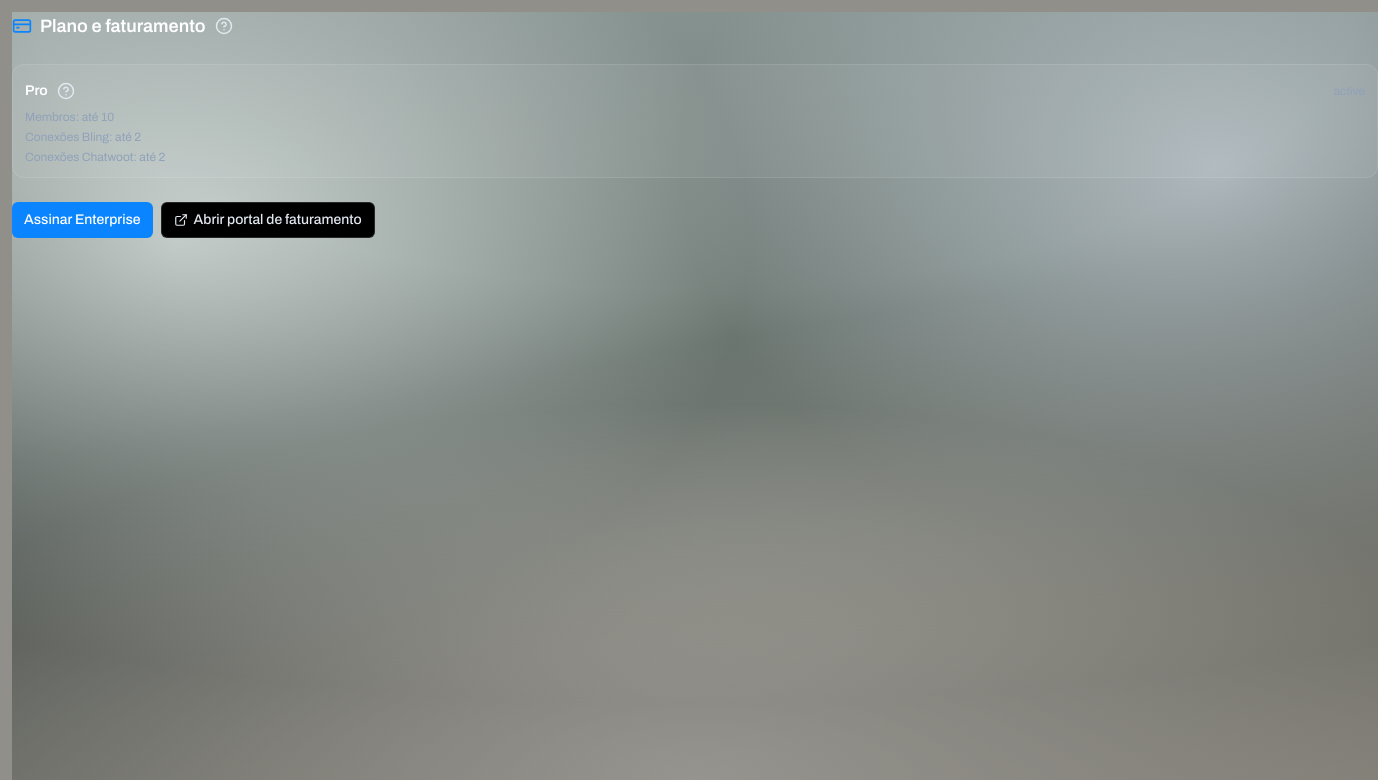
Test: BillingPanel › surfaces a billing failure from the server instead of pretending checkout started
Expected: the text "Pro" is shown, [25,81,48,101]
Click the button "Assinar Enterprise": (82, 220) [12,202,153,238]
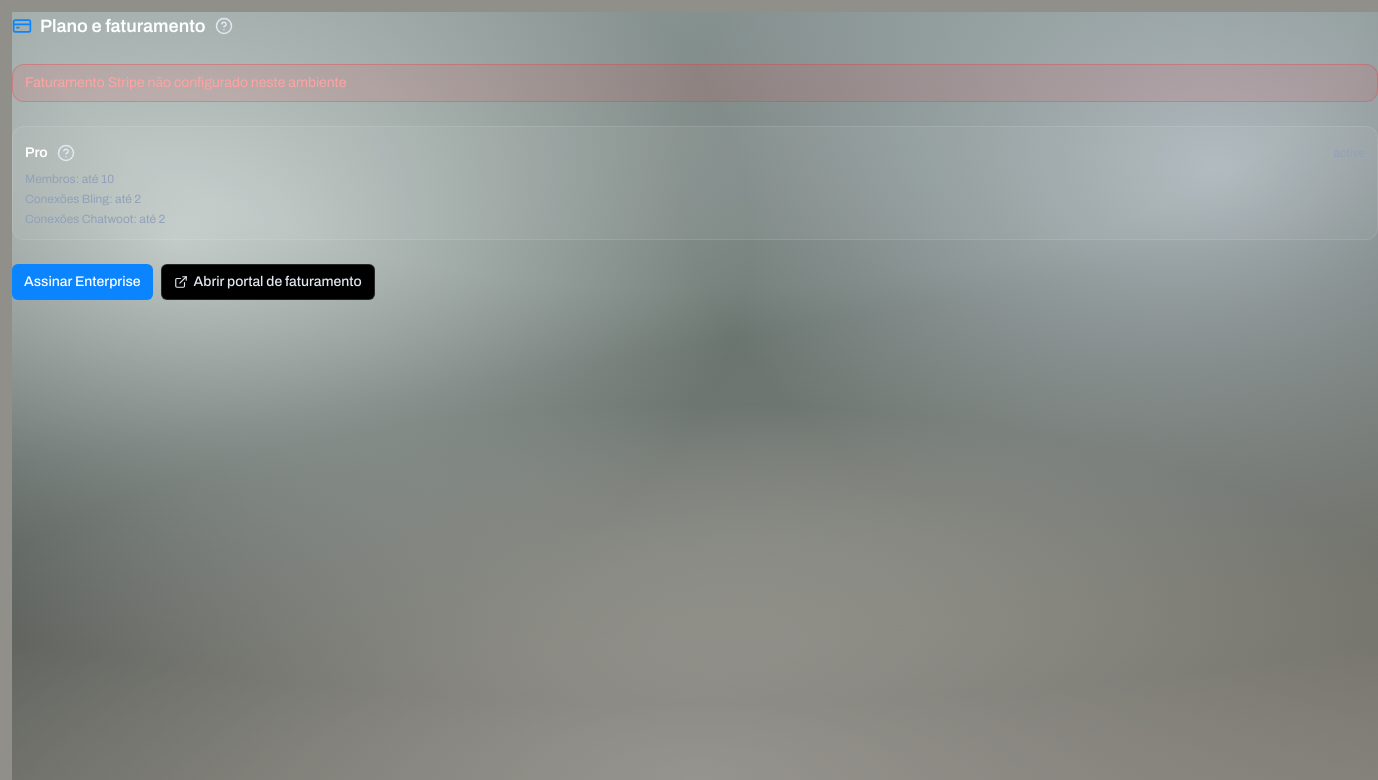
Result: the text "Faturamento Stripe não configurado neste ambiente" is shown at [12,64,1377,102]
